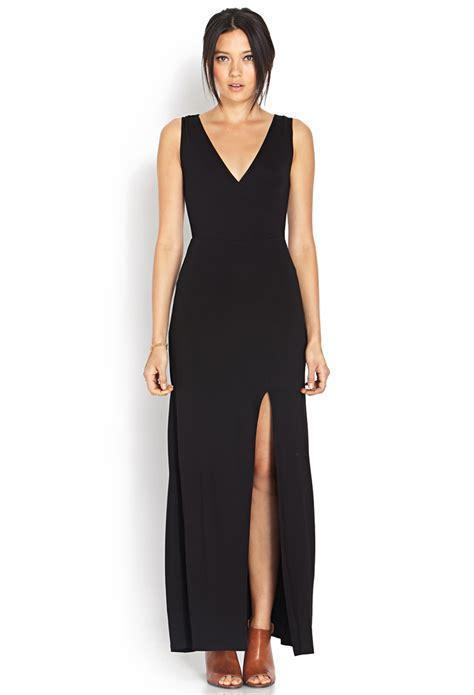dress: (167, 104, 316, 654)
